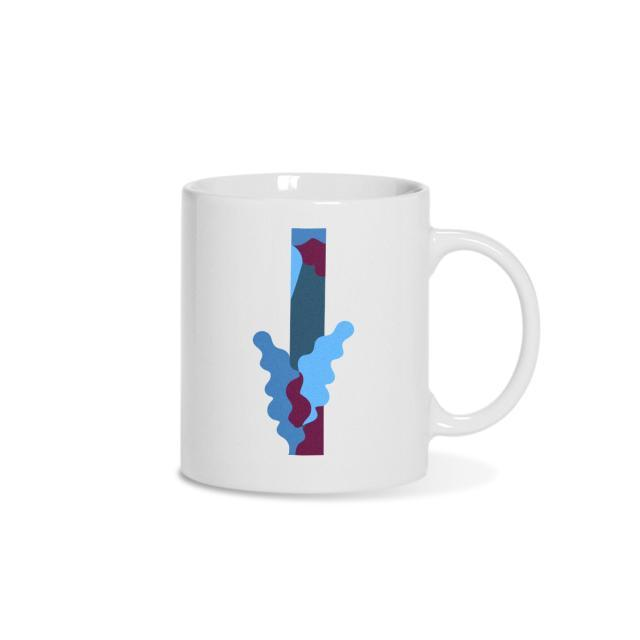Coffee Mug: (178, 174, 540, 500)
